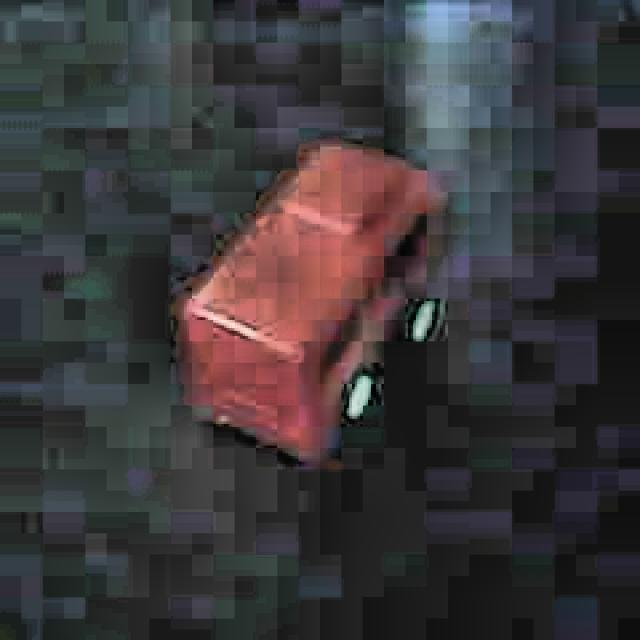bus: (171, 132, 445, 484)
